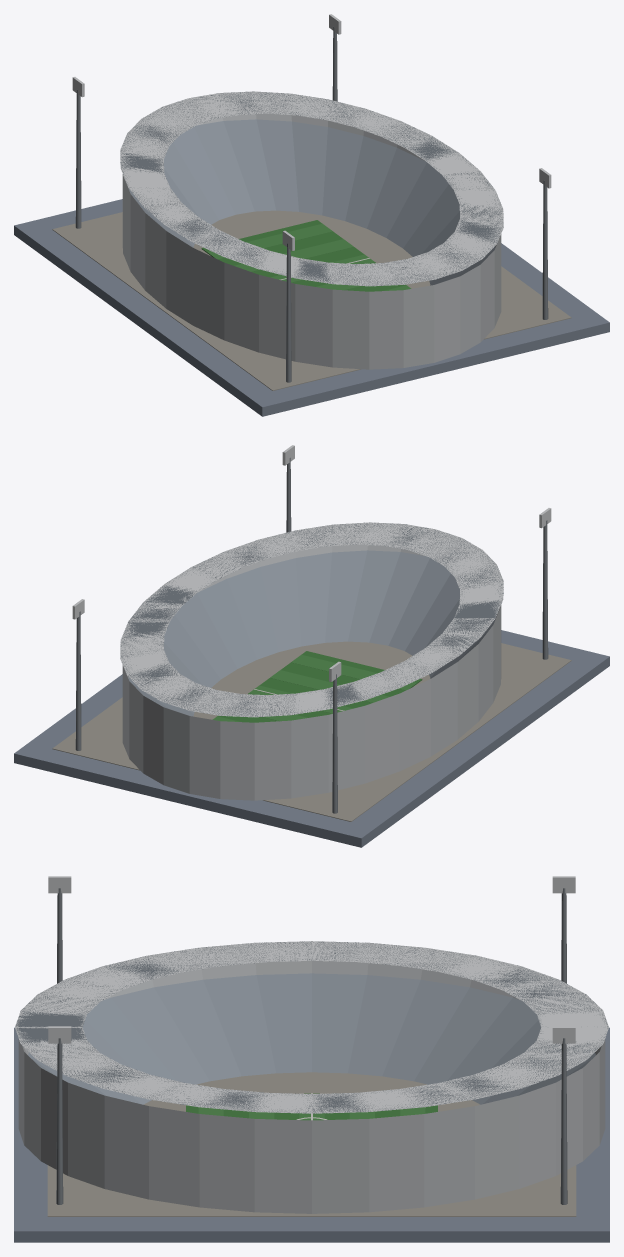
Rendered from stadium.glb.
3 views of the same model, one above another, from view 1: azimuth 30°, elevation 25°; view 2: azimuth 150°, elevation 25°; view 3: azimuth 270°, elevation 25° (orthographic). The views are drawn at different scales.
Visible parts, largest first — view 1: stadium; view 2: stadium; view 3: stadium.
Boxes of the visible parts, x1,y1,x2,y2 form: stadium: (14, 14, 609, 416); stadium: (14, 445, 609, 847); stadium: (14, 876, 609, 1242).
Bounding box in the file's own units: 84 × 36.35 × 104.
